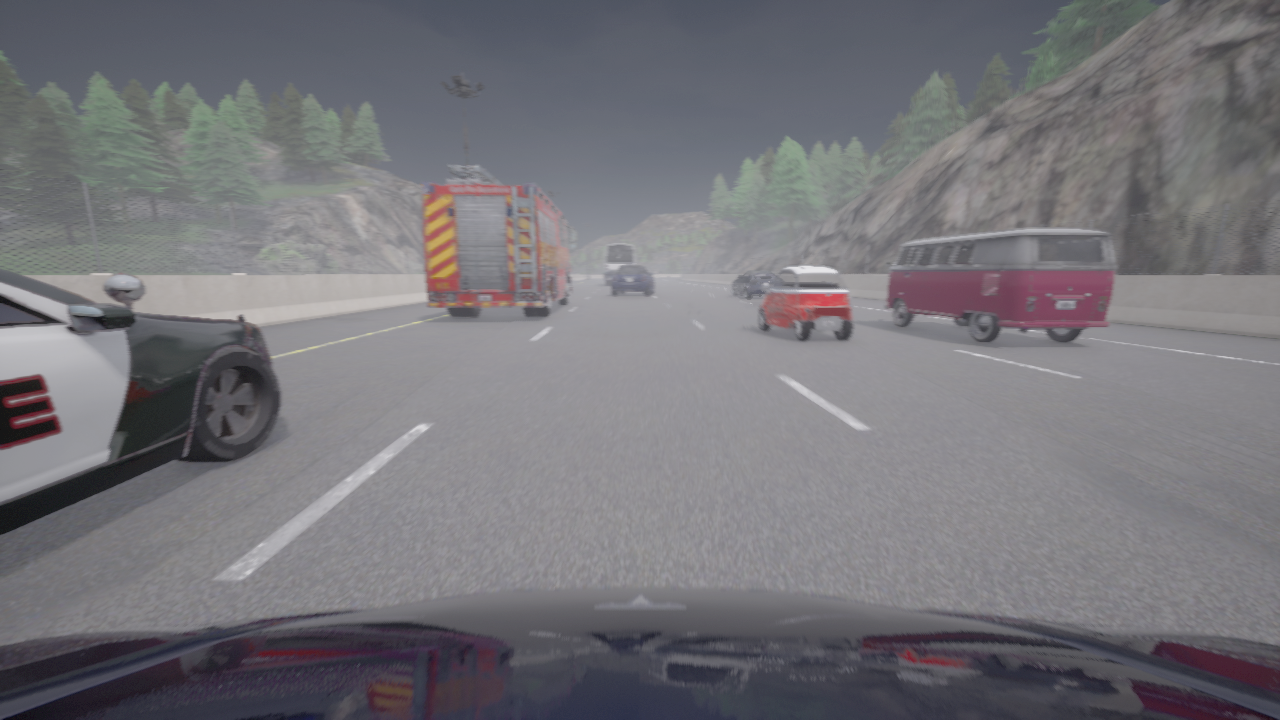cyclist: (0, 588, 1279, 719), (883, 228, 1116, 343), (422, 165, 576, 317), (758, 266, 851, 341), (602, 243, 635, 285), (611, 265, 653, 295), (731, 271, 776, 298)
